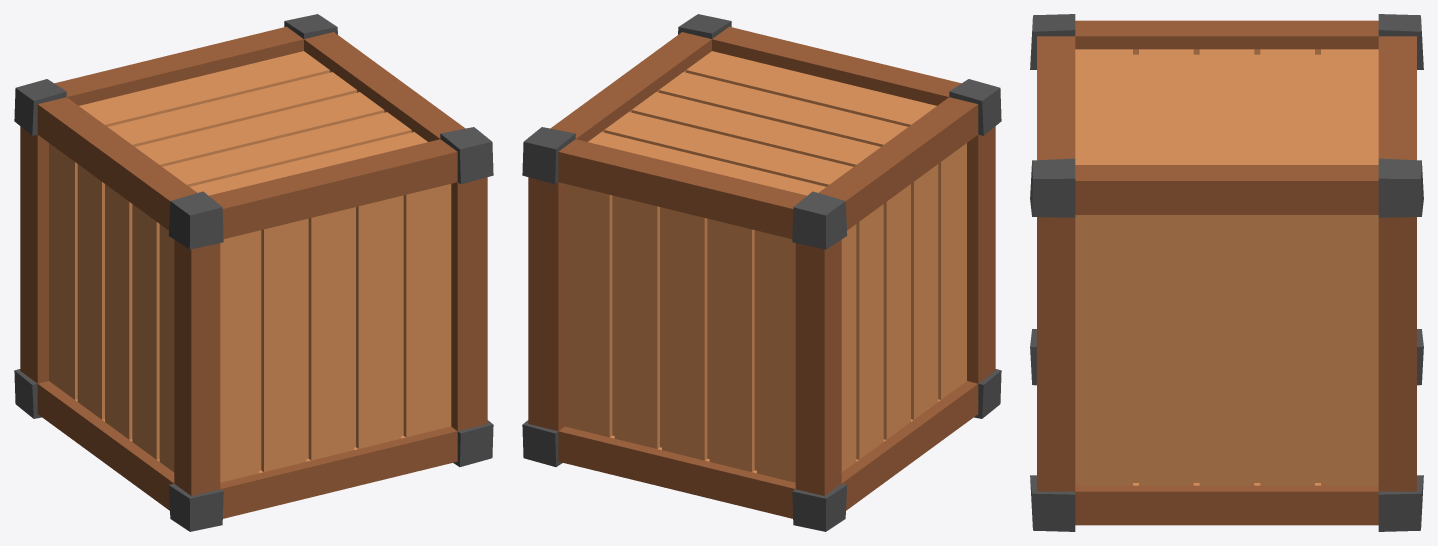
Rendered from Crate.fbx.
The picture shows the model from 3 angles, left to right: view 1: azimuth 30°, elevation 25°; view 2: azimuth 150°, elevation 25°; view 3: azimuth 270°, elevation 25°; orthographic projection. The views are drawn at different scales.
Parts seen in each view (by area): view 1: Crate; view 2: Crate; view 3: Crate.
Part boxes in pixels (x1,y1,x2,y2): Crate: (14,14,493,531); Crate: (522,14,1001,531); Crate: (1030,14,1423,531).
Size of the model in its own units: 61.82 by 61.82 by 61.82.
